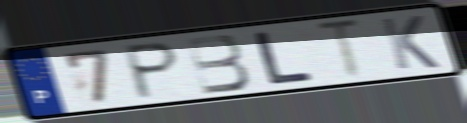7: (59, 46, 111, 105)
B: (182, 32, 254, 96)
K: (377, 13, 443, 72)
L: (251, 29, 317, 86)
P: (123, 40, 183, 102)
T: (312, 17, 366, 82)
